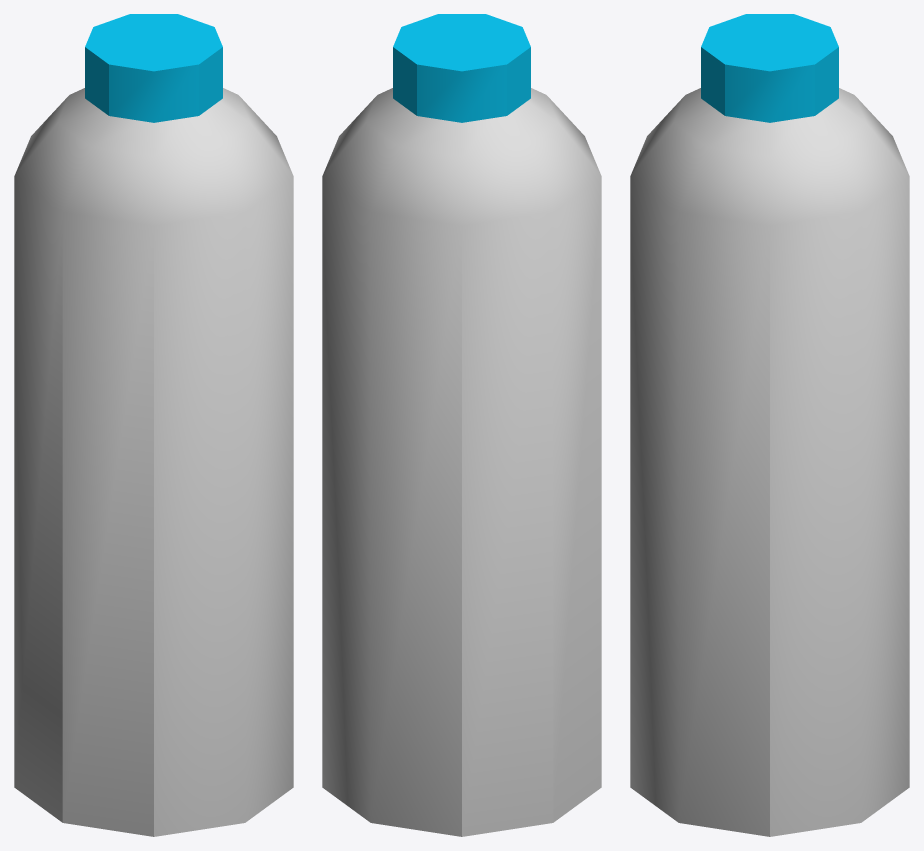
3 views of the same model, side by side, from view 1: azimuth 30°, elevation 25°; view 2: azimuth 150°, elevation 25°; view 3: azimuth 270°, elevation 25° (orthographic).
Parts seen in each view (by area): view 1: 瓶身, 盖子; view 2: 瓶身, 盖子; view 3: 瓶身, 盖子.
Part boxes in pixels (box(x1,y1,x2,y2)): 瓶身: box(14, 88, 293, 836); 盖子: box(85, 14, 222, 122); 瓶身: box(322, 88, 601, 836); 盖子: box(393, 14, 530, 122); 瓶身: box(630, 88, 909, 836); 盖子: box(701, 14, 838, 122).
Size of the model in its own units: 19.04 by 56.11 by 19.34.
